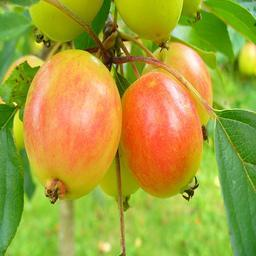apple: (18, 48, 122, 201), (124, 70, 205, 199), (142, 41, 214, 122)
